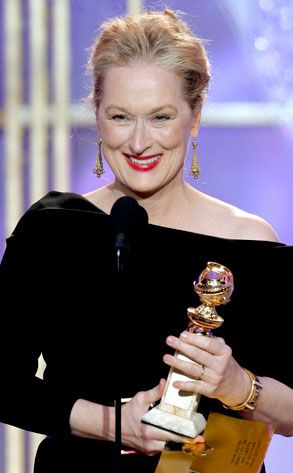hand: (118, 388, 199, 450)
